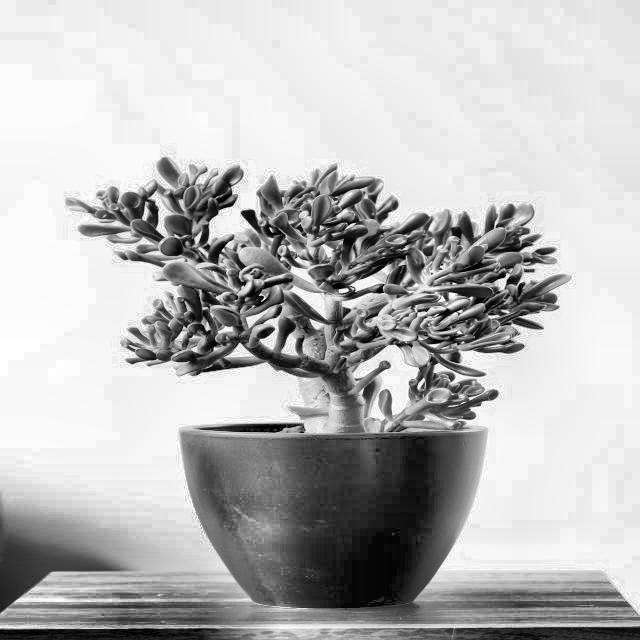plants: (78, 158, 558, 603)
